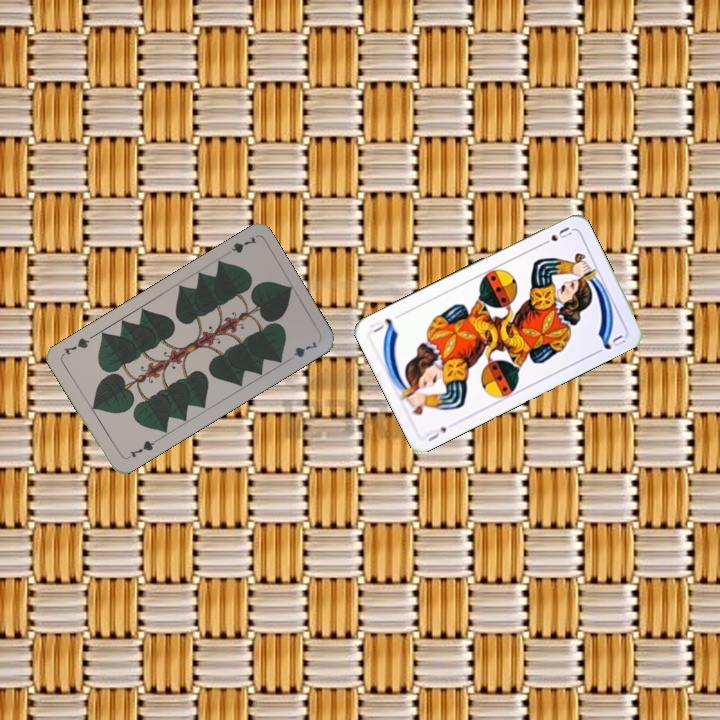G7: (220, 232, 259, 259), (122, 436, 160, 462)
SU: (537, 223, 575, 249), (422, 422, 449, 444)
